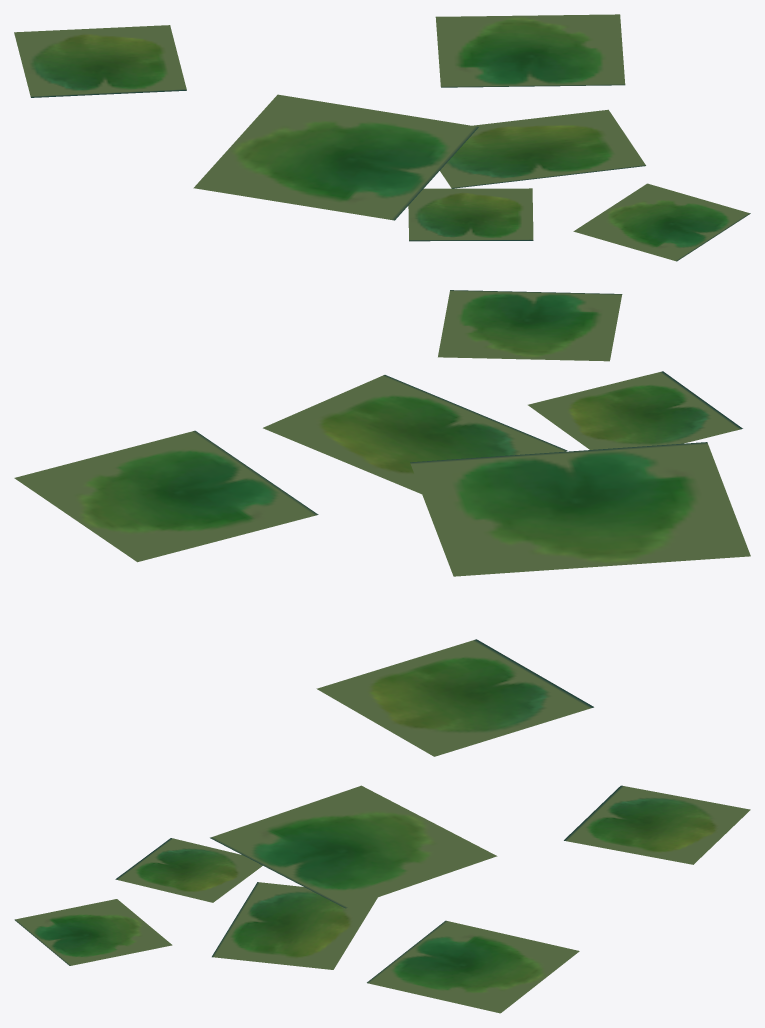
File: FB0_hehua01.FBX
3 renders of one model, top to bottom at view 1: azimuth 30°, elevation 25°; view 2: azimuth 150°, elevation 25°; view 3: azimuth 270°, elevation 25°, orthographic. The views are drawn at different scales.
Parts seen in each view (by area): view 1: FB0_hehua01_001; view 2: FB0_hehua01_001; view 3: FB0_hehua01_001.
Part boxes in pixels (<box>): FB0_hehua01_001: <box>14,14,750,261</box>; FB0_hehua01_001: <box>14,290,750,756</box>; FB0_hehua01_001: <box>14,785,750,1013</box>.
Size of the model in its own units: 415 by 7.17 by 557.
